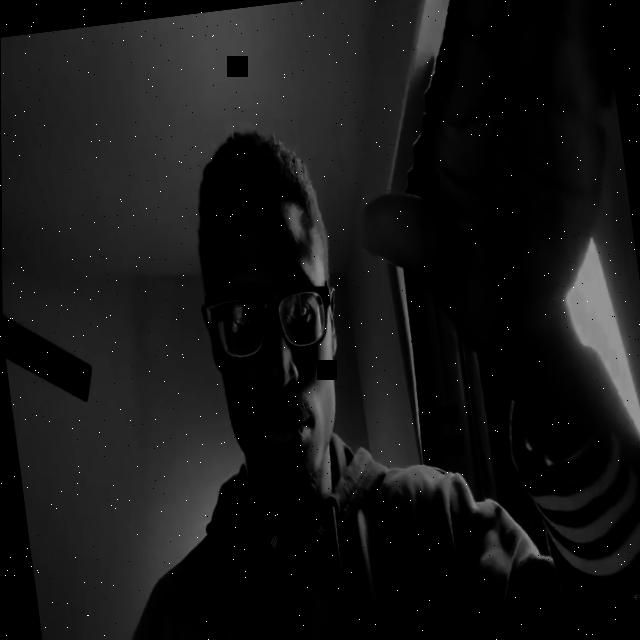Paper: (328, 0, 640, 374)
